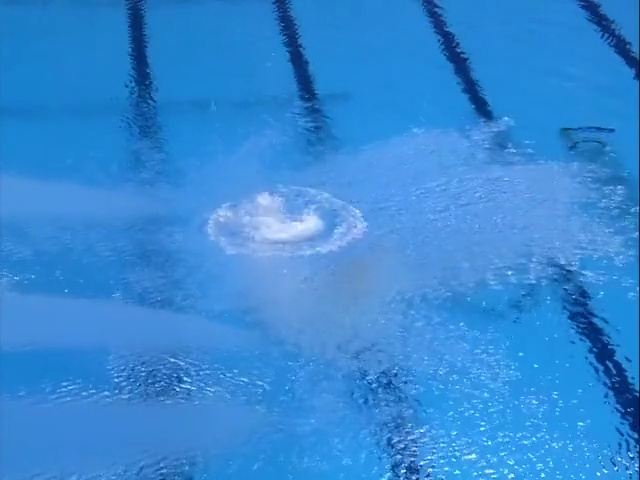splash: (209, 183, 370, 265)
